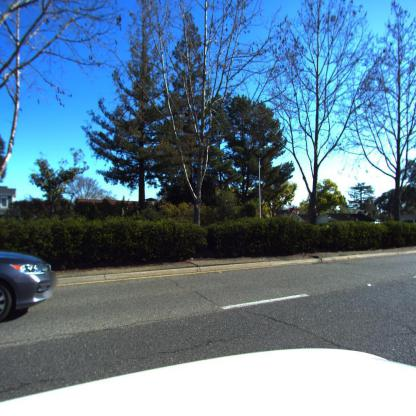car: (1, 248, 57, 326)
